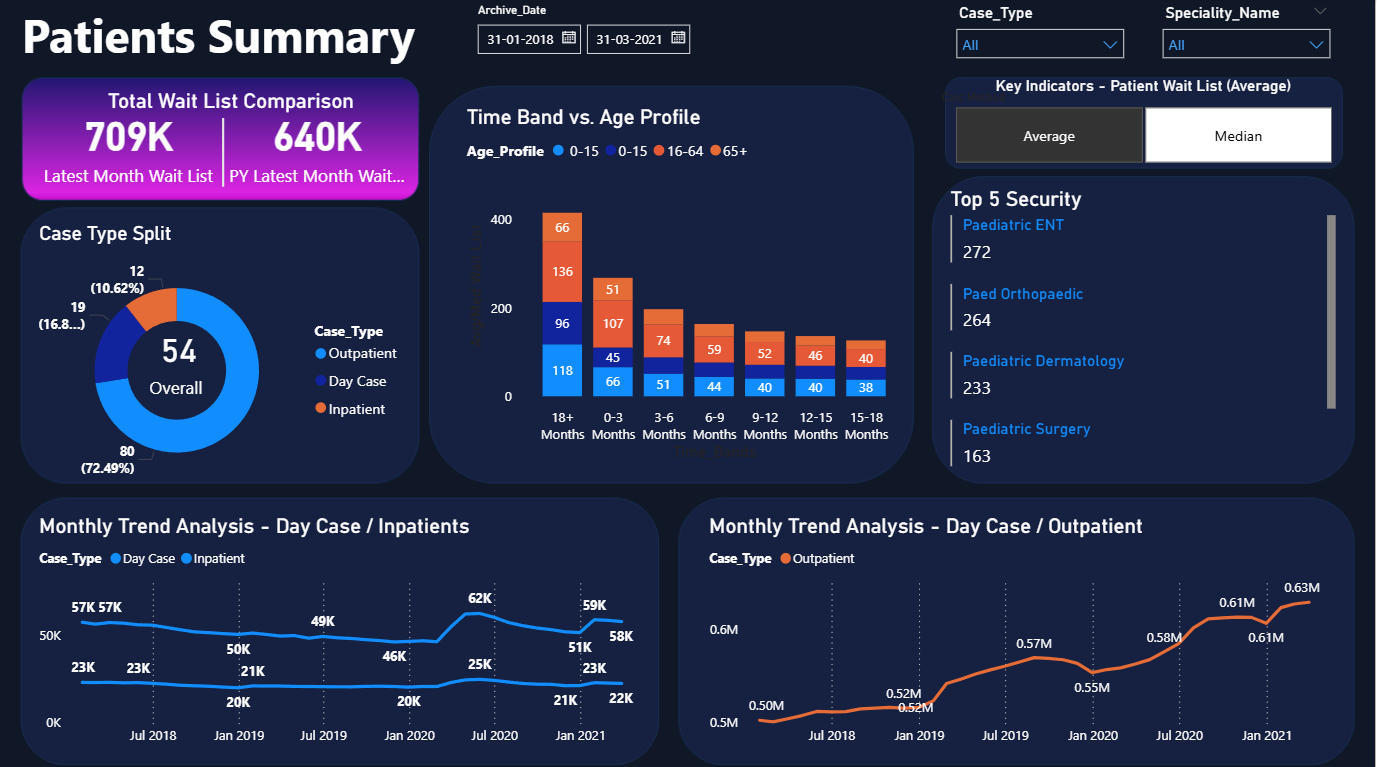

Layout of this report page (visuals, bound fields, positions):
{"tool":"powerbi","page":{"name":"Hospital Summary Dashboard ","canvas":[1280,720],"ordinal":0},"visuals":[{"type":"card","fields":{"Values":["All_Data.Latest Month Wait List"]},"box":[32,96,176,80],"z":0},{"type":"card","fields":{"Values":["All_Data.PY Latest Month Wait List"]},"box":[208,96,176,80],"z":1000},{"type":"slicer","fields":{"Values":["Calculation Method.Calc Method"]},"box":[864,80,400,80],"z":2000},{"type":"donutChart","title":"Case Type Split ","fields":{"Category":["All_Data.Case_Type"],"Y":["All_Data.Avg/Med Wait List"]},"box":[32,208,352,256],"z":3000},{"type":"columnChart","title":"Time Band vs. Age Profile","fields":{"Y":["All_Data.Avg/Med Wait List"],"Category":["All_Data.Time_Bands"],"Series":["All_Data.Age_Profile"]},"box":[430.6,100.1,419.7,335.3],"z":4000},{"type":"multiRowCard","title":"Top 5 Security ","fields":{"Values":["All_Data.Avg/Med Wait List","All_Data.Speciality_Name"]},"box":[880,176,368,272],"z":5000},{"type":"card","fields":{"Values":["All_Data.NoDataLeft"]},"box":[32,560,560,64],"z":5500},{"type":"lineChart","title":"Monthly Trend Analysis - Day Case / Inpatients ","fields":{"Category":["All_Data.Archive_Date"],"Y":["Sum(All_Data.Total)"],"Series":["All_Data.Case_Type"]},"box":[32,480,576,224],"z":6000},{"type":"card","fields":{"Values":["All_Data.NoDataRight"]},"box":[656,560,576,64],"z":6500},{"type":"lineChart","title":"Monthly Trend Analysis - Day Case / Outpatient ","fields":{"Category":["All_Data.Archive_Date"],"Series":["All_Data.Case_Type"],"Y":["Sum(All_Data.Total)"]},"box":[656,480,592,224],"z":7000},{"type":"slicer","fields":{"Values":["All_Data.Archive_Date"]},"box":[432,0,384,80],"z":8000},{"type":"slicer","fields":{"Values":["All_Data.Case_Type"]},"box":[880,0,176,64],"z":9000},{"type":"slicer","fields":{"Values":["All_Data.Speciality_Name"]},"box":[1072,0,176,64],"z":10000},{"type":"textbox","box":[16,0,416,80],"z":11000},{"type":"card","fields":{"Values":["All_Data.Avg/Med Wait List"]},"box":[79.6,256.9,176.1,160.4],"z":12000},{"type":"shape","box":[96,112,224,64],"z":13000},{"type":"card","fields":{"Values":["All_Data.Dynamic Title"]},"box":[920.2,67.5,289.4,31.4],"z":14000},{"type":"textbox","box":[96,80,256,32],"z":15000}]}

Visuals, with their boxes in screenshot pixels (x1, y1, x2, y2), scaled from the page's 1280x720 canvas onto the 1377x767 screenshot:
card - All_Data.Latest Month Wait List: {"left": 34, "top": 102, "right": 224, "bottom": 187}
card - All_Data.PY Latest Month Wait List: {"left": 224, "top": 102, "right": 413, "bottom": 187}
slicer - Calculation Method.Calc Method: {"left": 929, "top": 85, "right": 1360, "bottom": 170}
"Case Type Split " donutChart: {"left": 34, "top": 222, "right": 413, "bottom": 494}
"Time Band vs. Age Profile" columnChart: {"left": 463, "top": 107, "right": 915, "bottom": 464}
"Top 5 Security " multiRowCard: {"left": 947, "top": 187, "right": 1343, "bottom": 477}
card - All_Data.NoDataLeft: {"left": 34, "top": 597, "right": 637, "bottom": 665}
"Monthly Trend Analysis - Day Case / Inpatients " lineChart: {"left": 34, "top": 511, "right": 654, "bottom": 750}
card - All_Data.NoDataRight: {"left": 706, "top": 597, "right": 1325, "bottom": 665}
"Monthly Trend Analysis - Day Case / Outpatient " lineChart: {"left": 706, "top": 511, "right": 1343, "bottom": 750}
slicer - All_Data.Archive_Date: {"left": 465, "top": 0, "right": 878, "bottom": 85}
slicer - All_Data.Case_Type: {"left": 947, "top": 0, "right": 1136, "bottom": 68}
slicer - All_Data.Speciality_Name: {"left": 1153, "top": 0, "right": 1343, "bottom": 68}
textbox: {"left": 17, "top": 0, "right": 465, "bottom": 85}
card - All_Data.Avg/Med Wait List: {"left": 86, "top": 274, "right": 275, "bottom": 445}
shape: {"left": 103, "top": 119, "right": 344, "bottom": 187}
card - All_Data.Dynamic Title: {"left": 990, "top": 72, "right": 1301, "bottom": 105}
textbox: {"left": 103, "top": 85, "right": 379, "bottom": 119}
